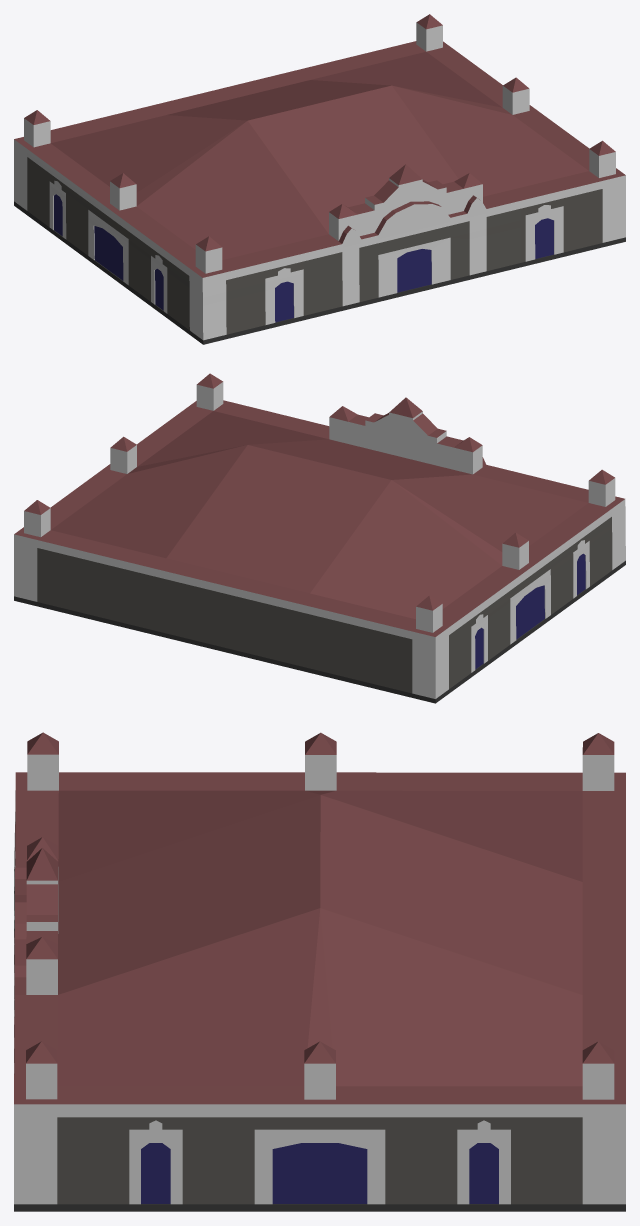
The model's file is Лавка Тобокова.glb.
3 renders of one model, top to bottom at view 1: azimuth 30°, elevation 25°; view 2: azimuth 150°, elevation 25°; view 3: azimuth 270°, elevation 25°, orthographic. The views are drawn at different scales.
Visible parts, largest first — view 1: 908096013; view 2: 908096013; view 3: 908096013.
Part boxes in pixels (bbox=[...]): 908096013: bbox=[14, 14, 625, 344]; 908096013: bbox=[14, 373, 625, 703]; 908096013: bbox=[14, 732, 625, 1211].
Size of the model in its own units: 19.96 by 5.54 by 15.53.
